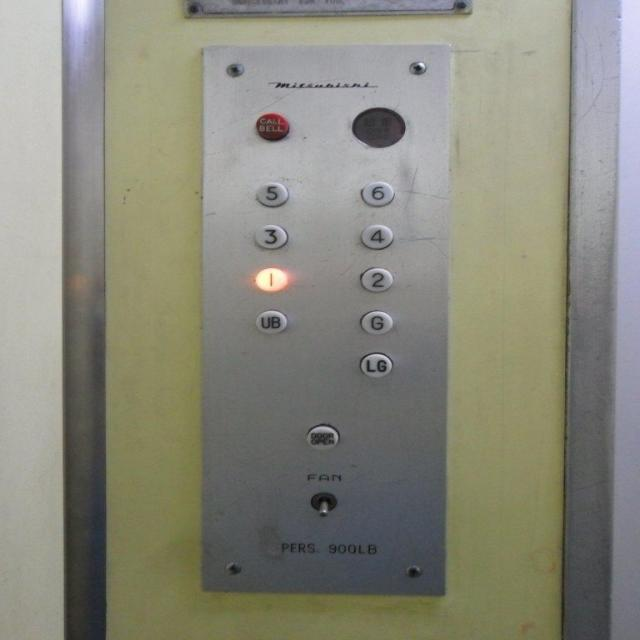1: (252, 264, 290, 294)
2: (357, 266, 393, 292)
3: (254, 223, 288, 250)
4: (360, 222, 393, 250)
5: (254, 180, 288, 208)
6: (359, 179, 393, 207)
G: (358, 308, 392, 334)
LG: (358, 350, 392, 378)
UB: (254, 308, 288, 334)
switch: (304, 489, 339, 519)
text_call bell: (252, 111, 290, 142)
text_door open: (303, 422, 341, 451)
text_overweight: (348, 104, 408, 150)
